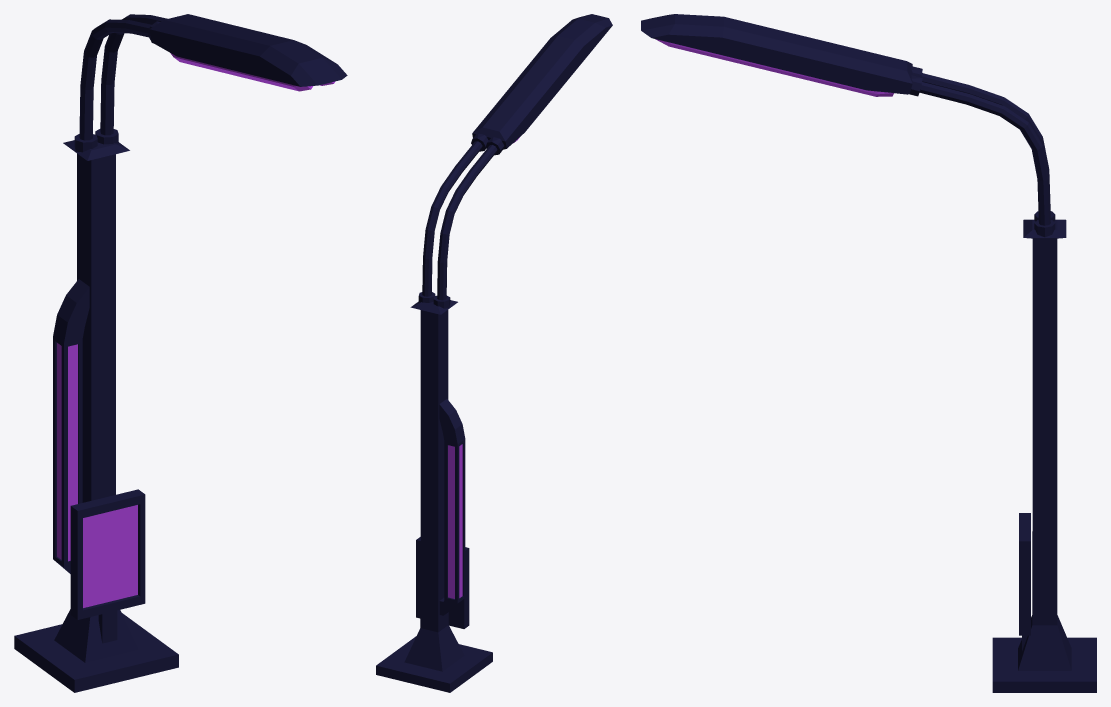
File: Lampbooleaned.fbx
3 views of the same model, side by side, from view 1: azimuth 30°, elevation 25°; view 2: azimuth 150°, elevation 25°; view 3: azimuth 270°, elevation 25° (orthographic). The views are drawn at different scales.
Parts seen in each view (by area): view 1: base; view 2: base; view 3: base.
Boxes of the visible parts, <box> form: base: <box>14,14,347,692</box>; base: <box>376,14,612,692</box>; base: <box>641,14,1096,692</box>.
Bounding box in the file's own units: 200 × 1382 × 876.
